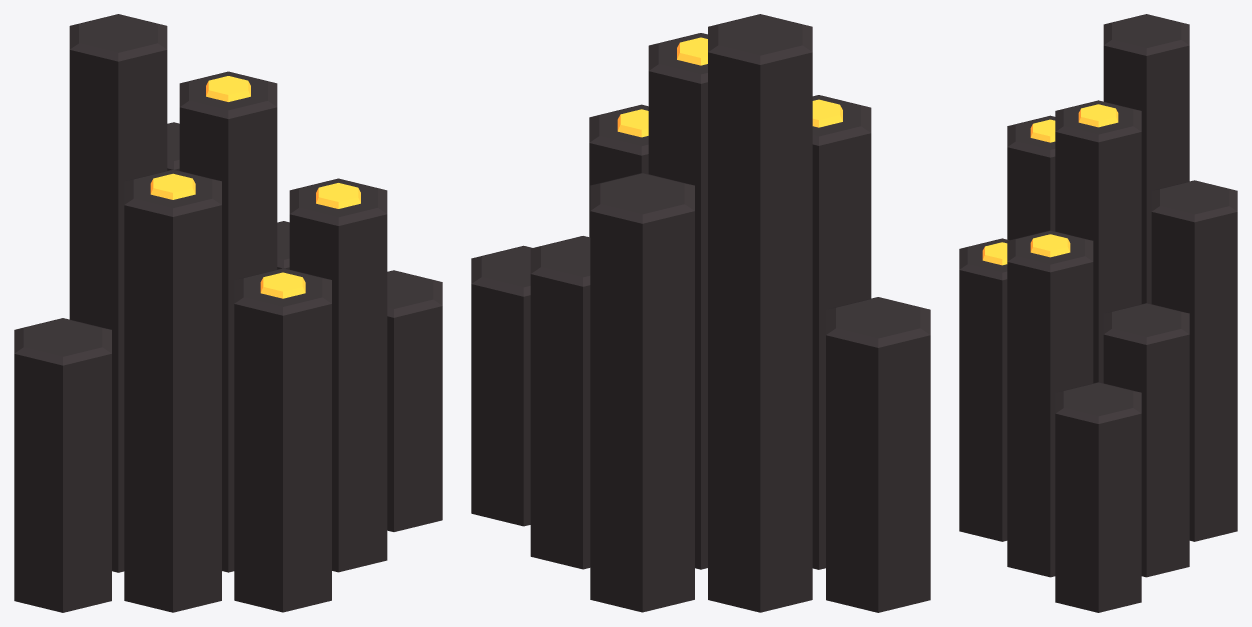
Rendered from basalt_columns.glb.
3 views of the same model, side by side, from view 1: azimuth 30°, elevation 25°; view 2: azimuth 150°, elevation 25°; view 3: azimuth 270°, elevation 25° (orthographic). The views are drawn at different scales.
Visible parts, largest first — view 1: LOD0; view 2: LOD0; view 3: LOD0.
Boxes of the visible parts, bbox=[...] form: LOD0: bbox=[14, 14, 442, 612]; LOD0: bbox=[471, 14, 930, 612]; LOD0: bbox=[959, 14, 1237, 612].
Size of what is drawn, in the model's own units: 5.44 by 6.25 by 3.47.
